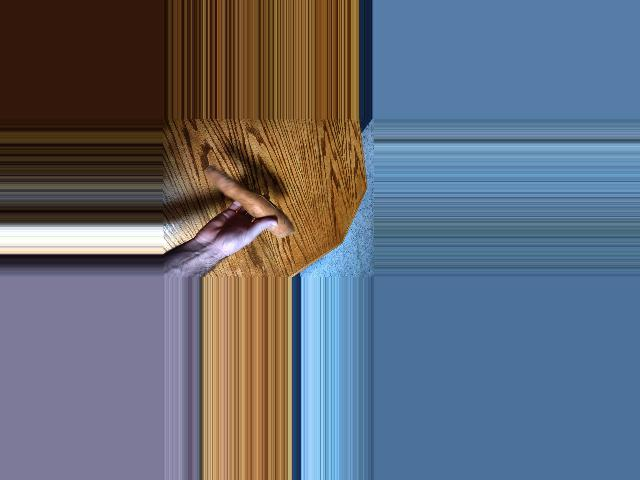sweet_potato: (205, 168, 286, 239)
